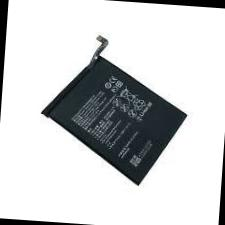battery: (23, 33, 200, 196)
